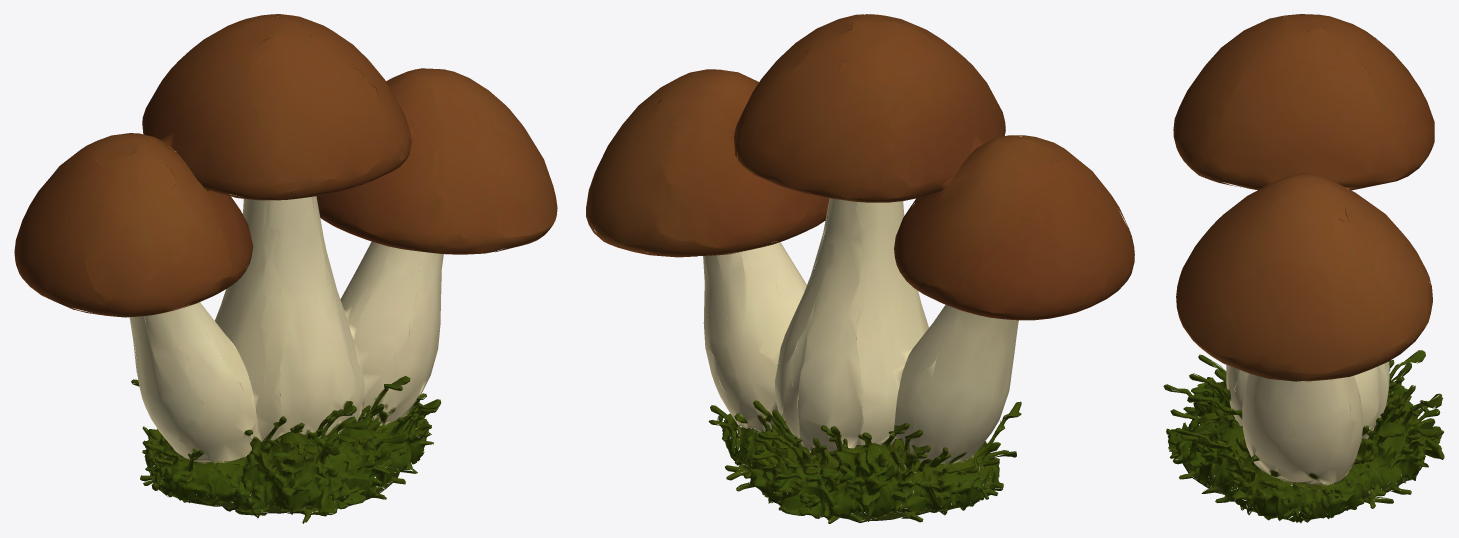
File: mushrooms.glb
3 renders of one model, left to right at view 1: azimuth 30°, elevation 25°; view 2: azimuth 150°, elevation 25°; view 3: azimuth 270°, elevation 25°, orthographic. The views are drawn at different scales.
Visible parts, largest first — view 1: Mesh_0; view 2: Mesh_0; view 3: Mesh_0.
Boxes of the visible parts, x1,y1,x2,y2 form: Mesh_0: (14, 14, 557, 523); Mesh_0: (586, 14, 1134, 523); Mesh_0: (1163, 14, 1444, 523).
Bounding box in the file's own units: 1 × 0.8506 × 0.4886.
Materials: 1 (1 with a texture image).
